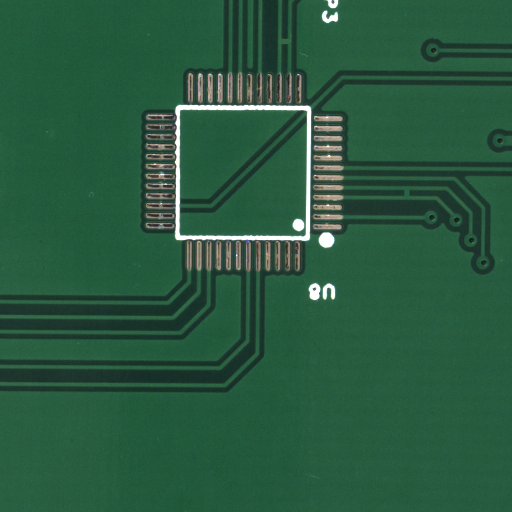Short: (284, 41, 294, 54), (406, 193, 417, 204)
